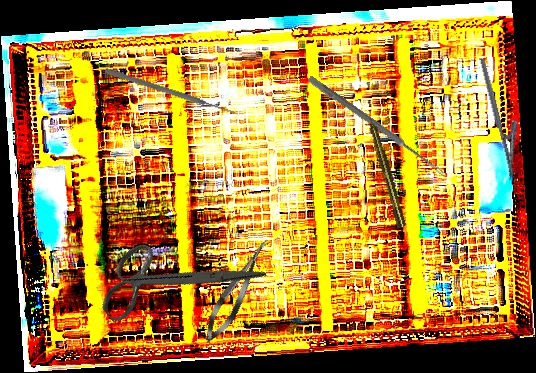Handpiece: (363, 109, 408, 231)
Iris Scissors: (84, 192, 268, 369)
Micro Scissor: (197, 233, 277, 348)
Needle Holder: (479, 54, 531, 180)
Pusher: (104, 67, 237, 117)
Surgical Spoon: (306, 75, 447, 177)
